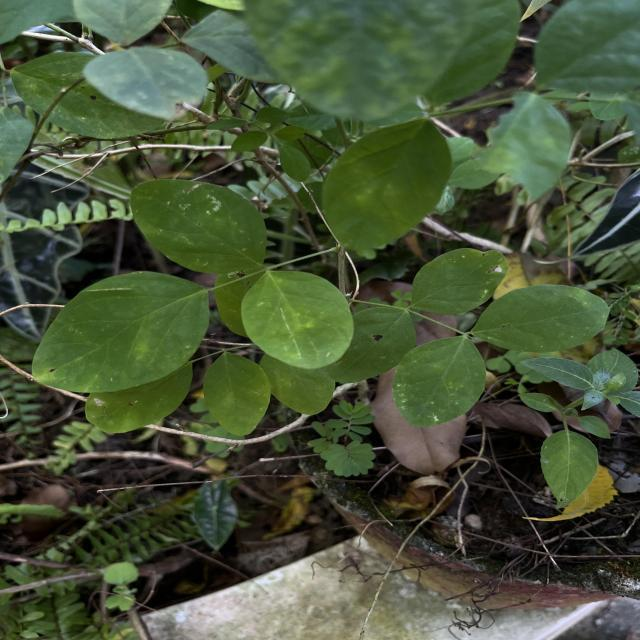Clitoria ternatea: (31, 270, 210, 394), (129, 178, 268, 274), (240, 268, 354, 370), (472, 283, 614, 354), (390, 334, 488, 428), (408, 246, 509, 316)
